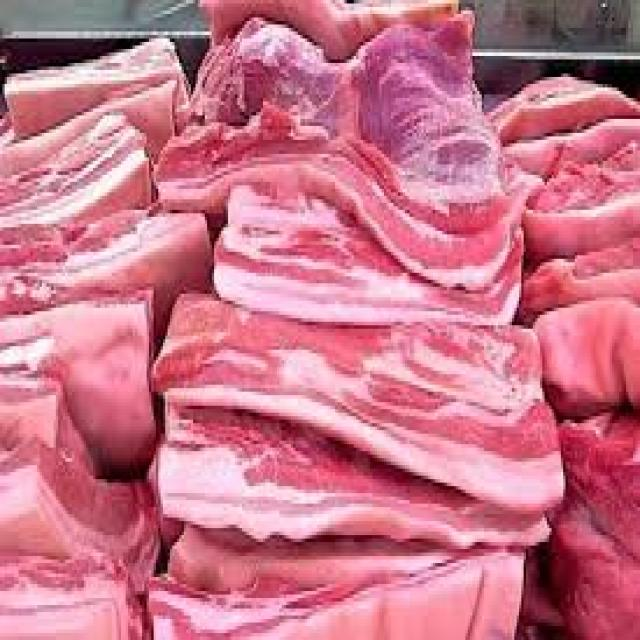Pork: (156, 14, 524, 323), (154, 294, 566, 512), (158, 406, 552, 551), (214, 185, 524, 323), (149, 528, 526, 640), (344, 14, 507, 234), (535, 301, 640, 420)
